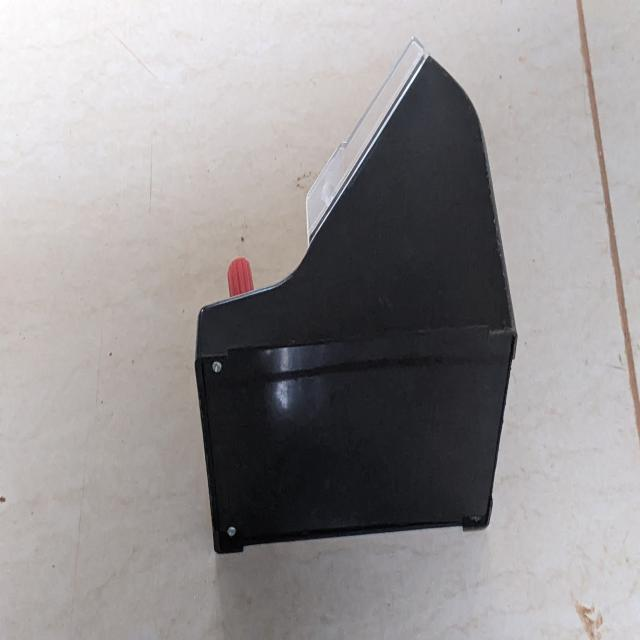Galvanometer: (175, 34, 534, 594)
